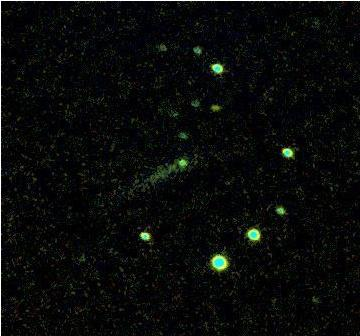star: (199, 94, 229, 124)
